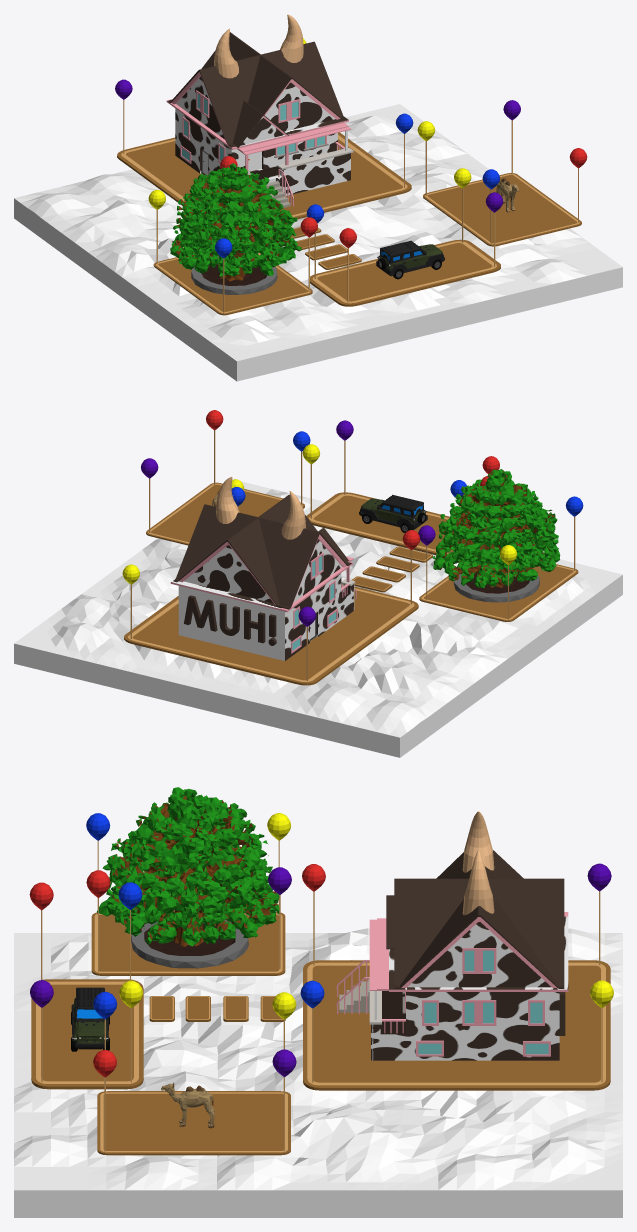
3 views of the same model, one above another, from view 1: azimuth 30°, elevation 25°; view 2: azimuth 150°, elevation 25°; view 3: azimuth 270°, elevation 25° (orthographic). The views are drawn at different scales.
Visible parts, largest first — view 1: Cube.013, Cube.1242, OBJRANDOM_CEIBA, VEHICLES_JEEP; view 2: Cube.013, Cube.1242, OBJRANDOM_CEIBA, VEHICLES_JEEP; view 3: Cube.013, Cube.1242, OBJRANDOM_CEIBA, VEHICLES_JEEP, ANIMAL_CAMELLO.
Boxes of the visible parts, x1,y1,x2,y2 form: Cube.013: (14, 38, 622, 381); Cube.1242: (166, 14, 353, 207); OBJRANDOM_CEIBA: (170, 163, 301, 294); VEHICLES_JEEP: (376, 240, 444, 279); Cube.013: (14, 410, 622, 757); Cube.1242: (170, 476, 356, 660); OBJRANDOM_CEIBA: (432, 469, 560, 602); VEHICLES_JEEP: (359, 494, 427, 532); Cube.013: (14, 813, 622, 1217); Cube.1242: (336, 811, 568, 1060); OBJRANDOM_CEIBA: (97, 787, 279, 968); VEHICLES_JEEP: (71, 987, 109, 1051); ANIMAL_CAMELLO: (161, 1082, 214, 1128).
Bounding box in the file's own units: 4000 × 1947 × 4000.
42 materials, 1 textured.
